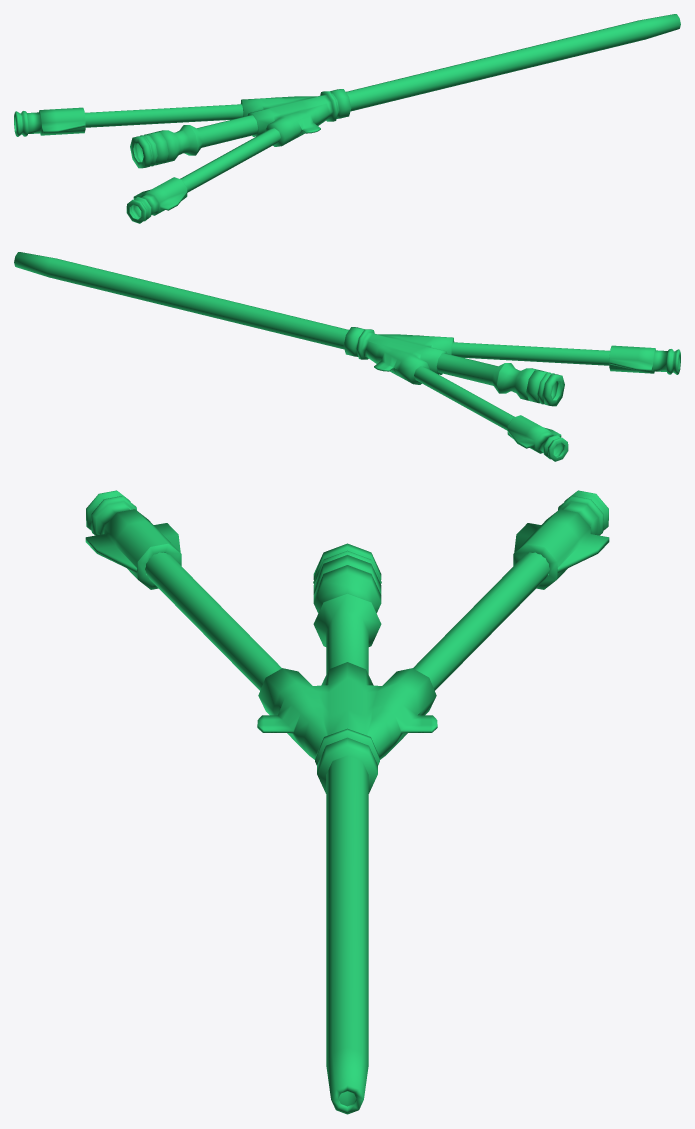
File: ArrowLow.fbx
3 views of the same model, one above another, from view 1: azimuth 30°, elevation 25°; view 2: azimuth 150°, elevation 25°; view 3: azimuth 270°, elevation 25° (orthographic). The views are drawn at different scales.
Parts seen in each view (by area): view 1: Cylinder; view 2: Cylinder; view 3: Cylinder.
Boxes of the visible parts, bbox=[...] form: Cylinder: bbox=[14, 14, 680, 223]; Cylinder: bbox=[14, 252, 680, 461]; Cylinder: bbox=[85, 490, 609, 1114].
Bounding box in the file's own units: 5276 × 259 × 1979.
